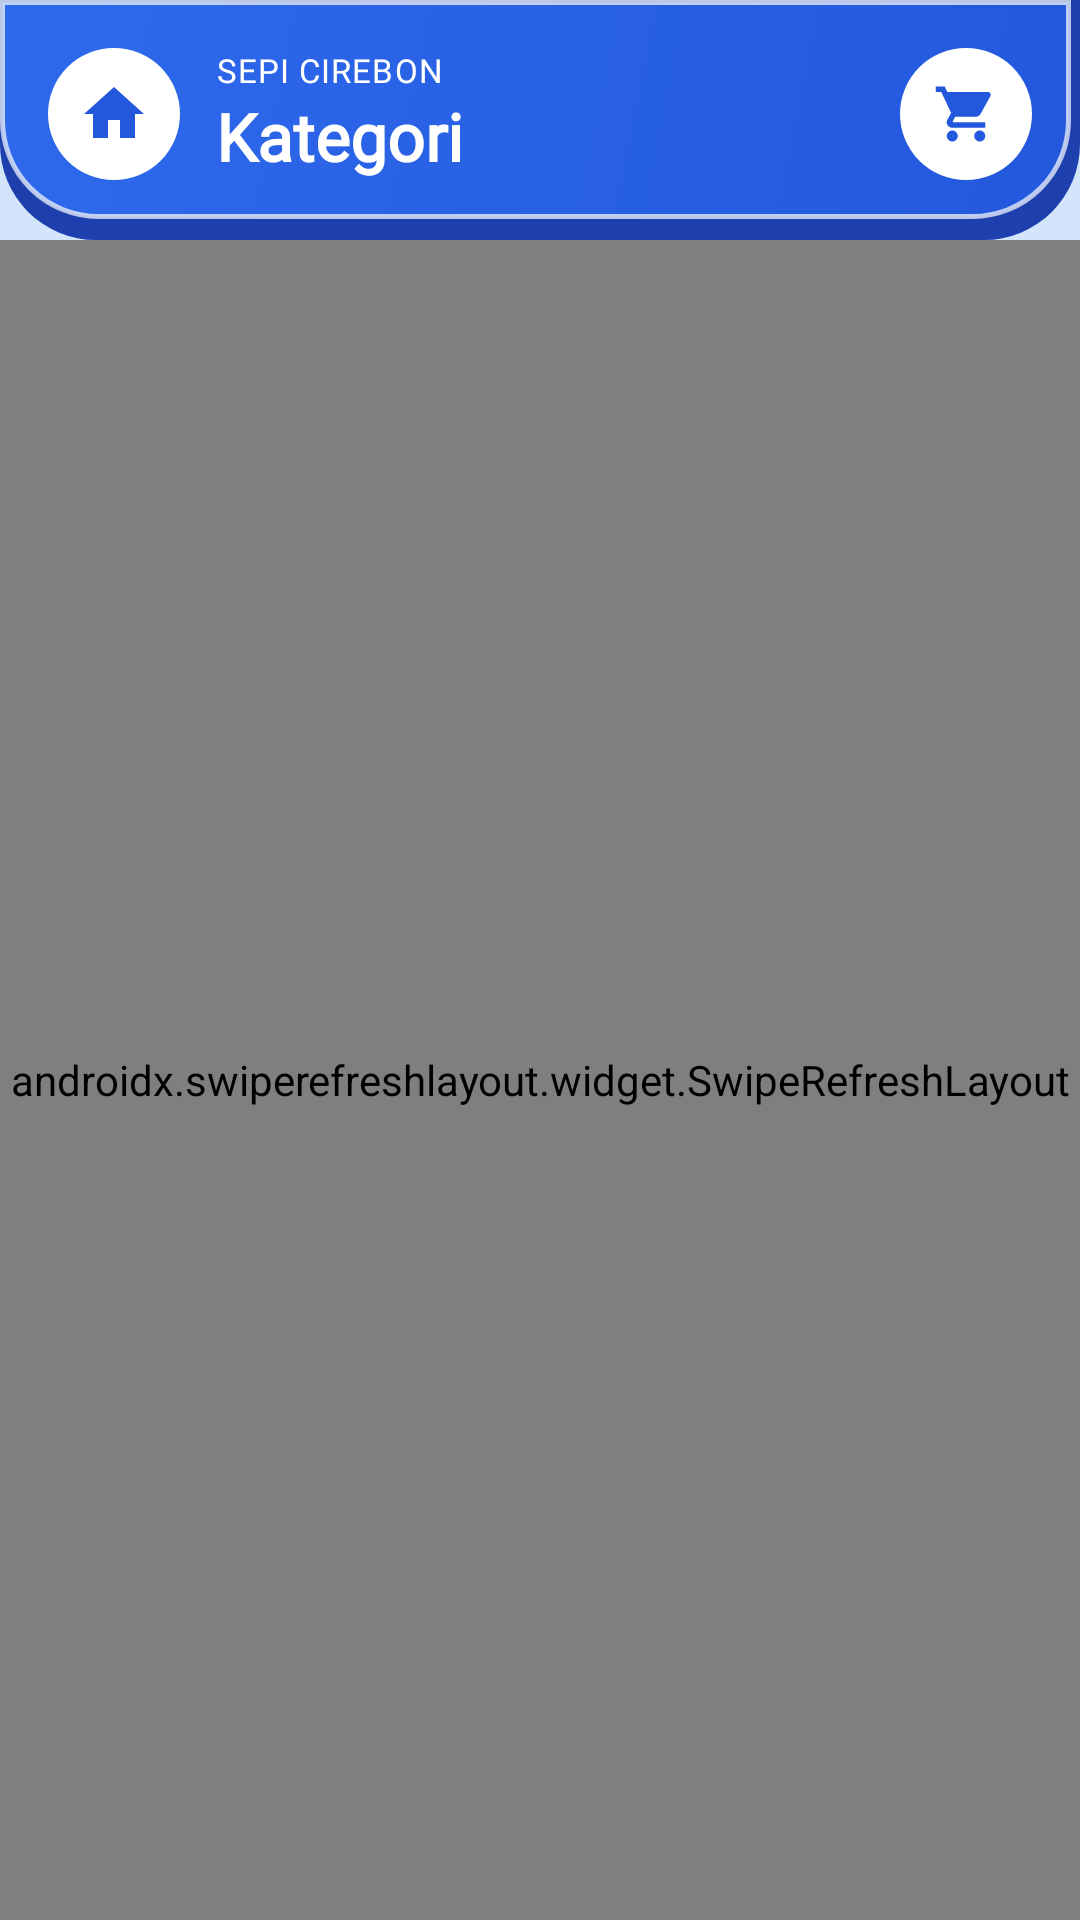

Screen size 1080 × 1920. Icon name, then its box in pixels as (x1, y1, x2, y2):
cat home: (84, 87, 144, 138)
Keranjang Belanja: (935, 86, 991, 142)
